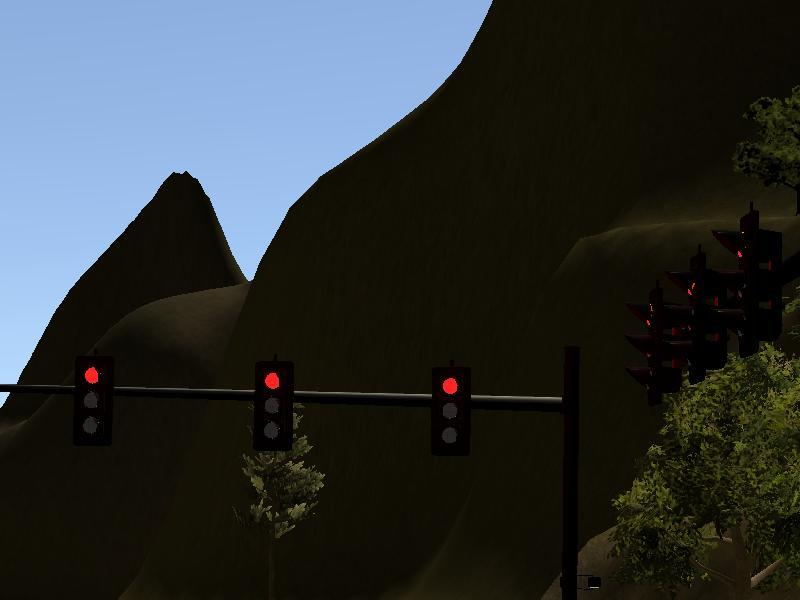Red: (434, 365, 473, 465), (256, 365, 292, 448), (78, 364, 107, 445)
